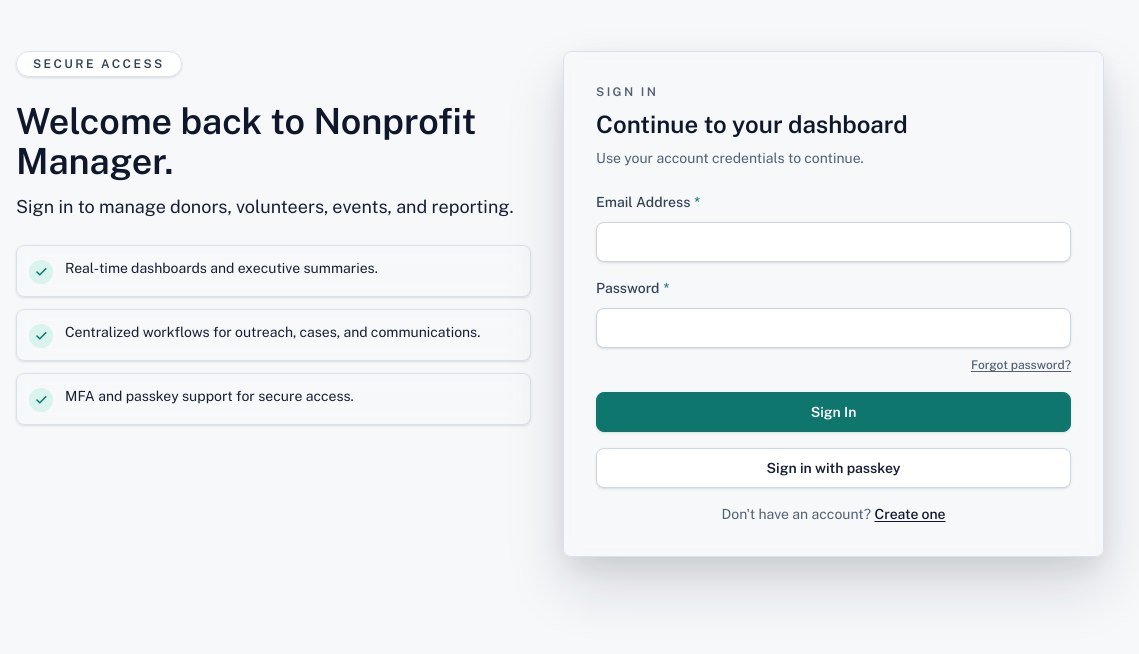
Test: Login page › shows error message on failed login
The width and height of the screenshot is (1139, 654).
Type "fail@example.com" into the field labelled "Email Address*". click: {"x": 834, "y": 242}
box: [596, 222, 1071, 262]
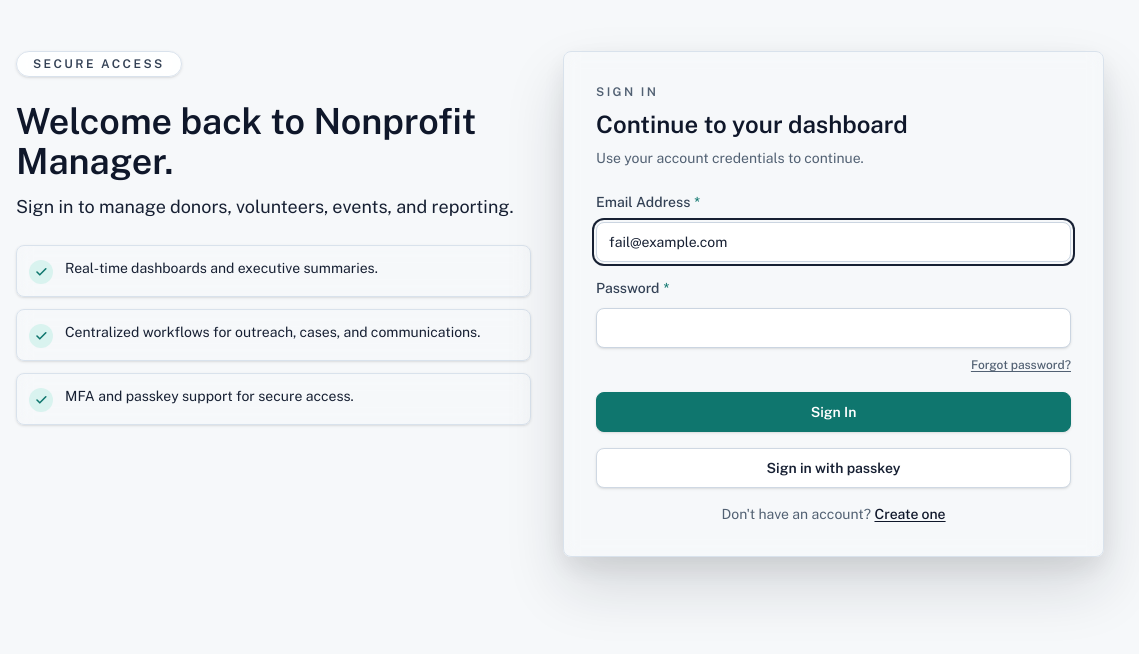
Type "BadPassword" into the password field labelled "Password*". click: {"x": 834, "y": 328}
box: [596, 308, 1071, 348]
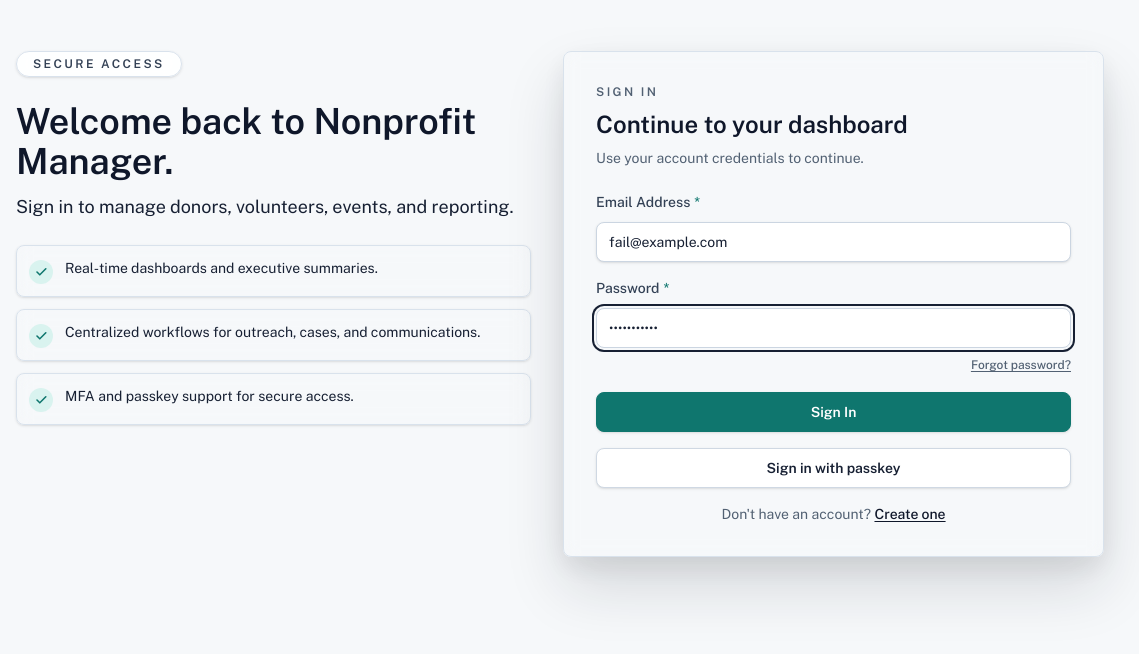
Click the button "Sign In". click: {"x": 834, "y": 412}
box: [596, 392, 1071, 432]
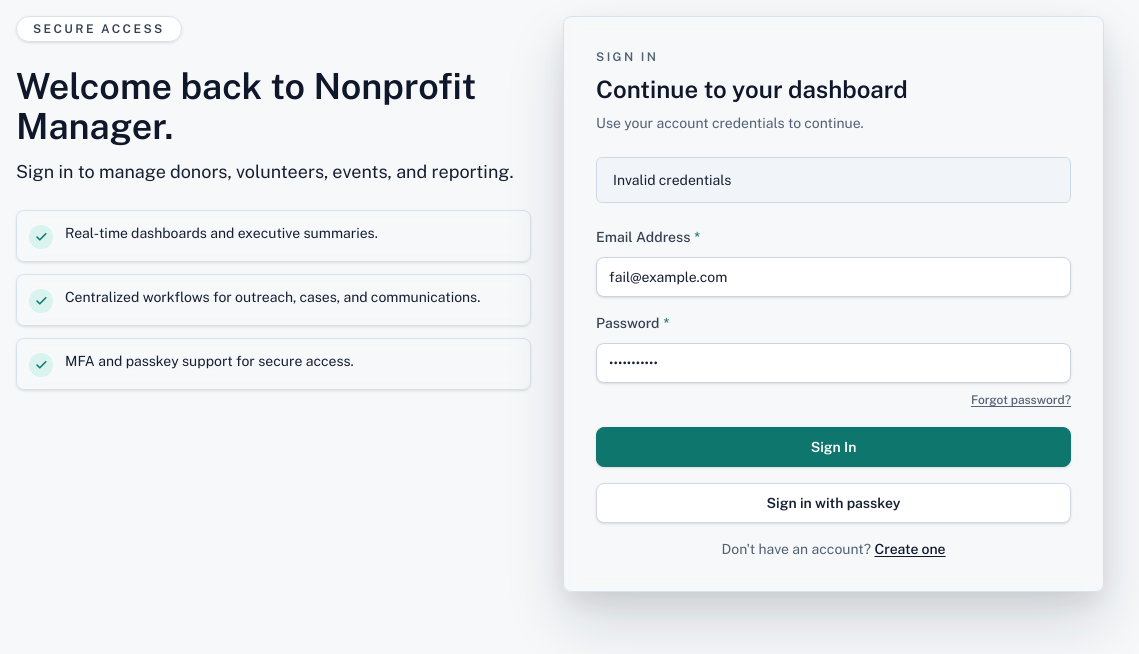
Expected: the text "Invalid credentials" is shown, [613, 172, 731, 188]
